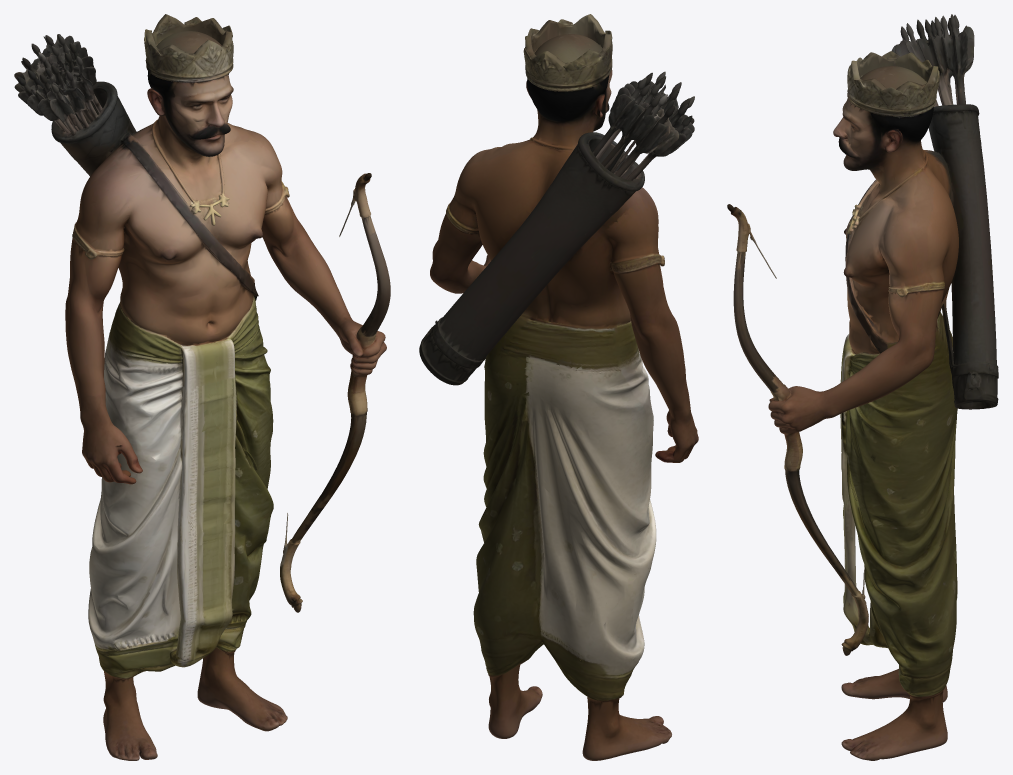
The model's file is uthiyan_cheralathan.glb.
3 renders of one model, left to right at view 1: azimuth 30°, elevation 25°; view 2: azimuth 150°, elevation 25°; view 3: azimuth 270°, elevation 25°, orthographic. The views are drawn at different scales.
Parts seen in each view (by area): view 1: node_0; view 2: node_0; view 3: node_0.
Boxes of the visible parts, left/top/right/bottom form: node_0: left=14, top=14, right=390, bottom=760; node_0: left=419, top=14, right=698, bottom=760; node_0: left=727, top=14, right=998, bottom=760.
Size of the model in its own units: 0.4818 by 1.12 by 0.4165.
Materials: 1 (1 with a texture image).
